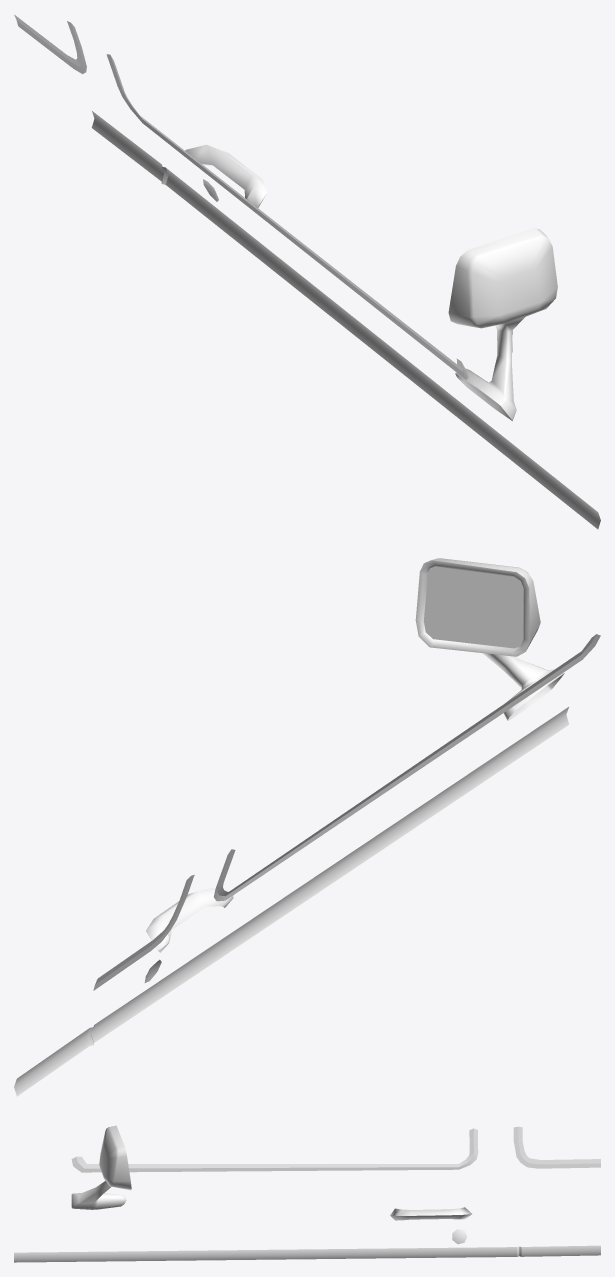
3 renders of one model, top to bottom at view 1: azimuth 30°, elevation 25°; view 2: azimuth 150°, elevation 25°; view 3: azimuth 270°, elevation 25°, orthographic. The views are drawn at different scales.
Size of the model in its own units: 0.1505 by 0.2486 by 1.05.
1 material, 1 textured.
